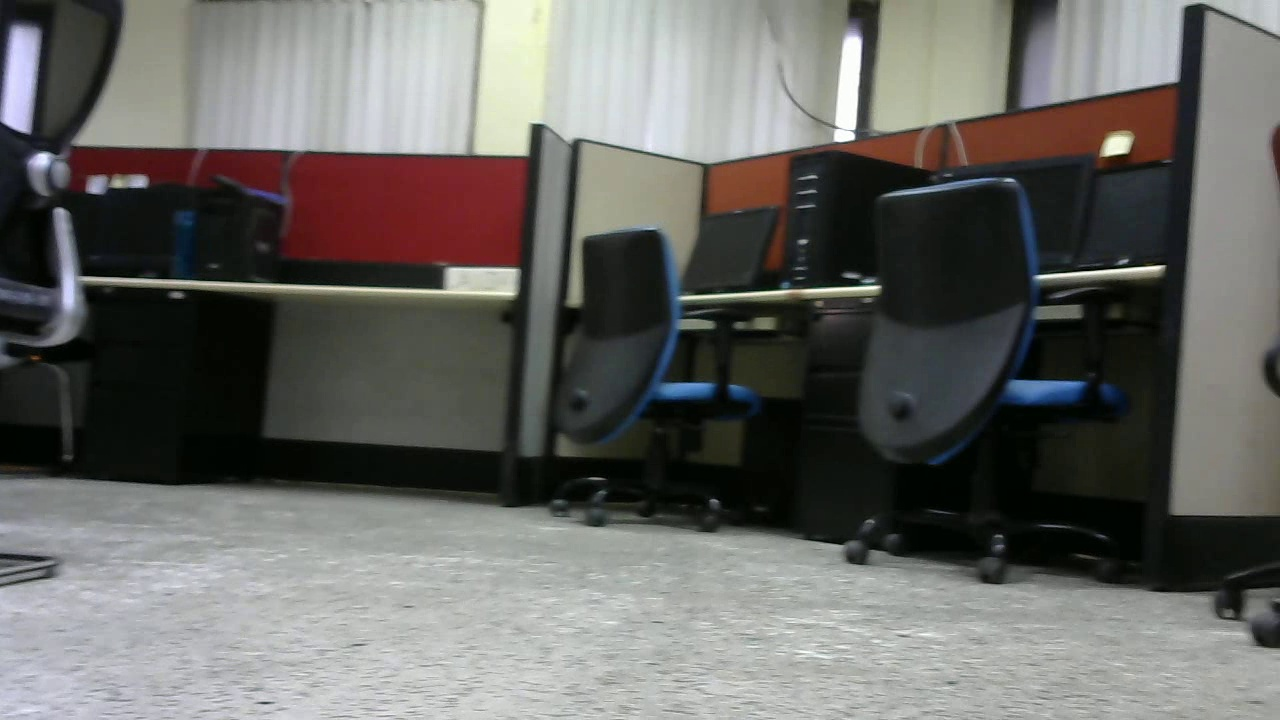chair: (834, 170, 1129, 582), (543, 223, 774, 535)
